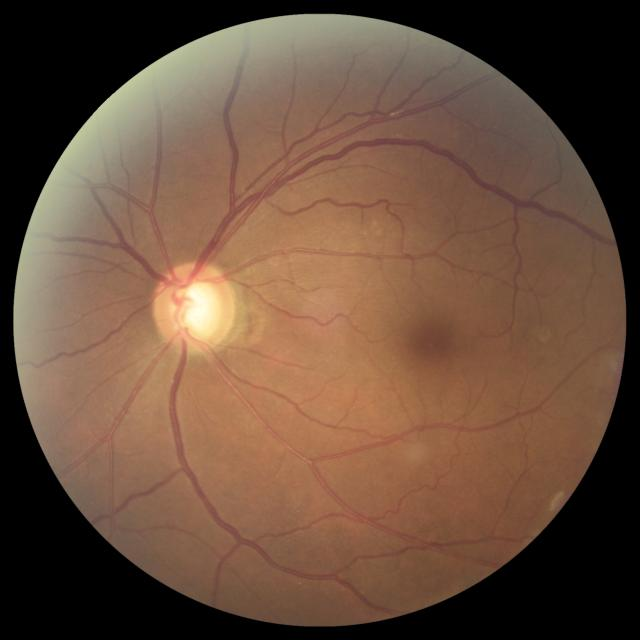OC: (173, 280, 220, 337)
OD: (154, 262, 237, 352)
